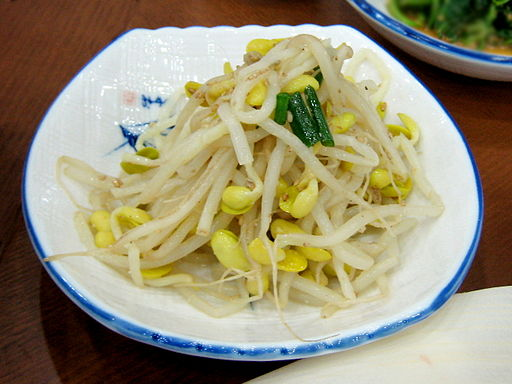mung_bean_sprouts: (145, 63, 400, 286)
